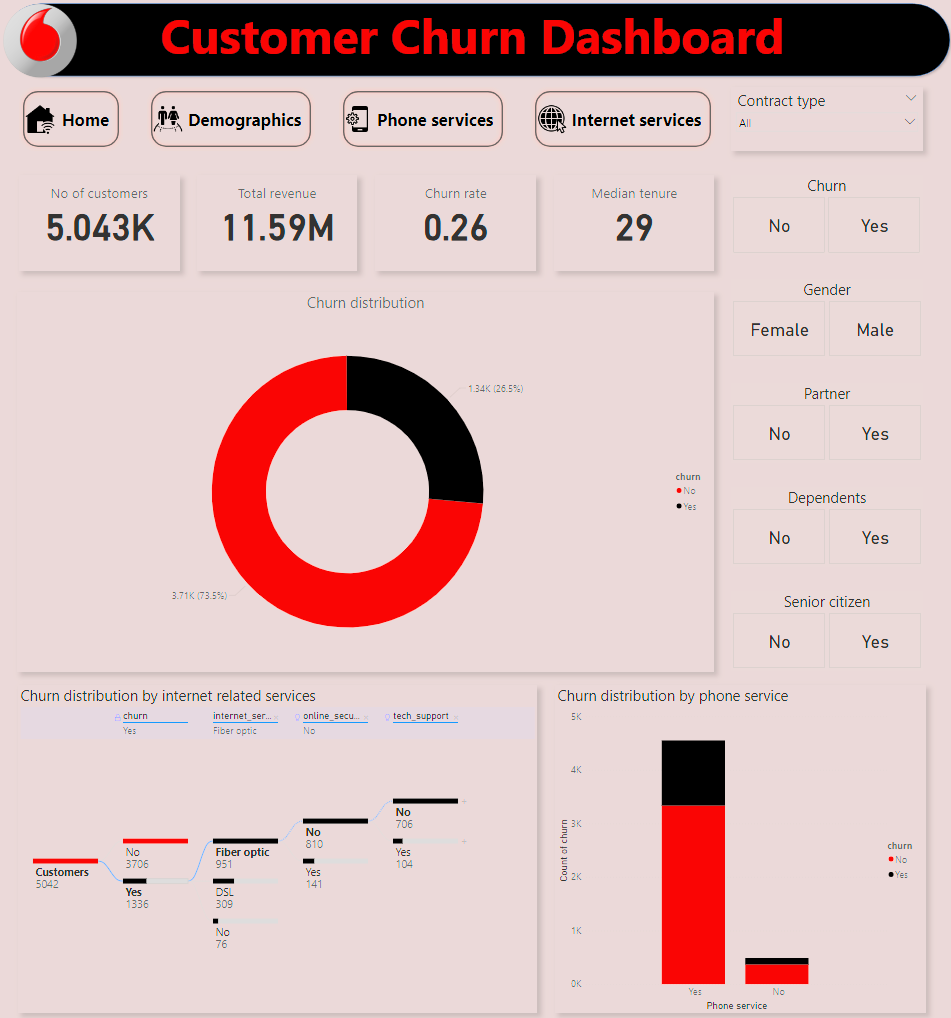

The dashboard page shown, as its layout file describes it:
{"tool":"powerbi","page":{"name":"Home","canvas":[1920,2048],"ordinal":0},"visuals":[{"type":"group","id":"g1","title":"Group 5","box":[10.6,0,1909,163.6],"z":0},{"type":"textbox","box":[0,0,1909,163.6],"z":1000},{"type":"shape","box":[10.6,0,1909,163.6],"z":1000,"group":"g1"},{"type":"image","box":[10.6,3.5,160.1,158.4],"z":2000,"group":"g1"},{"type":"donutChart","title":"Churn distribution","fields":{"Category":["df_train.churn"],"Y":["CountNonNull(df_train.churn)"]},"box":[43.6,586.8,1394.2,759.7],"z":2000},{"type":"group","id":"g2","title":"Group 1","box":[48,352,1392,192],"z":3000},{"type":"advancedSlicerVisual","title":"Churn","fields":{"Values":["df_train.churn"]},"box":[1472,352,382.8,160.5],"z":3000,"group":"g3"},{"type":"group","id":"g3","title":"Group 2","box":[1472,352,384,992],"z":4000},{"type":"decompositionTreeVisual","title":"Churn distribution by internet related services","fields":{"ExplainBy":["df_train.churn","df_train.internet_service","df_train.online_security","df_train.tech_support","df_train.online_backup","df_train.streaming_movies","df_train.streaming_tv","df_train.device_protection"],"Analyze":["CountNonNull(df_train.churn)"]},"box":[46.3,1371.9,1038.9,656.3],"z":4000,"group":"g4"},{"type":"cardVisual","fields":{"Data":["CountNonNull(df_train.gender)"]},"box":[48,352,321.9,191.8],"z":5000,"group":"g2"},{"type":"group","id":"g4","title":"Group 3","box":[46.3,1371.9,1814.8,656.3],"z":5000},{"type":"columnChart","title":"Churn distribution by phone service","fields":{"Category":["df_train.phone_service"],"Series":["df_train.churn"],"Y":["CountNonNull(df_train.churn)"]},"box":[1119.6,1371.9,741.5,656.3],"z":5000,"group":"g4"},{"type":"slicer","fields":{"Values":["df_train.contract"]},"box":[1472,176,384,128],"z":6000},{"type":"cardVisual","fields":{"Data":["df_train.churned"]},"box":[759.9,352,323.2,192],"z":6000,"group":"g2"},{"type":"group","id":"g5","title":"Group 4","box":[48,176,1392,128],"z":7000},{"type":"cardVisual","fields":{"Data":["Sum(df_train.total_charges)"]},"box":[404.2,352,321.4,192],"z":7000,"group":"g2"},{"type":"actionButton","box":[48,176,208,128],"z":8000,"group":"g5"},{"type":"cardVisual","fields":{"Data":["Median(df_train.tenure)"]},"box":[1117.4,352,321.4,192],"z":8000,"group":"g2"},{"type":"actionButton","box":[304,176,336,128],"z":9000,"group":"g5"},{"type":"advancedSlicerVisual","title":"Gender","fields":{"Values":["df_train.gender"]},"box":[1472,560.9,384,159.4],"z":9000,"group":"g3"},{"type":"actionButton","box":[688,176,336,128],"z":10000,"group":"g5"},{"type":"advancedSlicerVisual","title":"Partner","fields":{"Values":["df_train.partner"]},"box":[1472,768.8,384,159.4],"z":10000,"group":"g3"},{"type":"actionButton","box":[1072,176,368,128],"z":11000,"group":"g5"},{"type":"advancedSlicerVisual","title":"Dependents","fields":{"Values":["df_train.dependents"]},"box":[1472,976.7,384,159.4],"z":11000,"group":"g3"},{"type":"advancedSlicerVisual","title":"Senior citizen","fields":{"Values":["df_train.senior_citizen"]},"box":[1472,1184.6,384,159.4],"z":12000,"group":"g3"}]}

Visuals, with their boxes in screenshot pixels (x1, y1, x2, y2), scaled from the page's 1920x2048 canvas onto the 951x1018 screenshot:
"Group 5" group: 5,0,950,81
textbox: 0,0,946,81
shape: 5,0,950,81
image: 5,2,85,80
"Churn distribution" donutChart: 22,292,712,669
"Group 1" group: 24,175,713,270
"Churn" advancedSlicerVisual: 729,175,919,255
"Group 2" group: 729,175,919,668
"Churn distribution by internet related services" decompositionTreeVisual: 23,682,538,1008
cardVisual - CountNonNull(df_train.gender): 24,175,183,270
"Group 3" group: 23,682,922,1008
"Churn distribution by phone service" columnChart: 555,682,922,1008
slicer - df_train.contract: 729,87,919,151
cardVisual - df_train.churned: 376,175,536,270
"Group 4" group: 24,87,713,151
cardVisual - Sum(df_train.total_charges): 200,175,359,270
actionButton: 24,87,127,151
cardVisual - Median(df_train.tenure): 553,175,713,270
actionButton: 151,87,317,151
"Gender" advancedSlicerVisual: 729,279,919,358
actionButton: 341,87,507,151
"Partner" advancedSlicerVisual: 729,382,919,461
actionButton: 531,87,713,151
"Dependents" advancedSlicerVisual: 729,485,919,565
"Senior citizen" advancedSlicerVisual: 729,589,919,668
